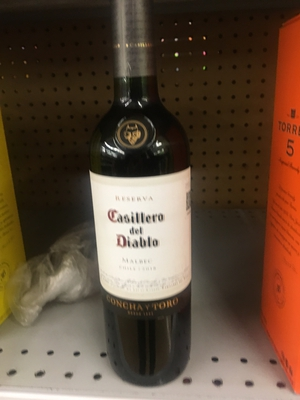casillero del diablo malbec: (74, 3, 230, 388)
